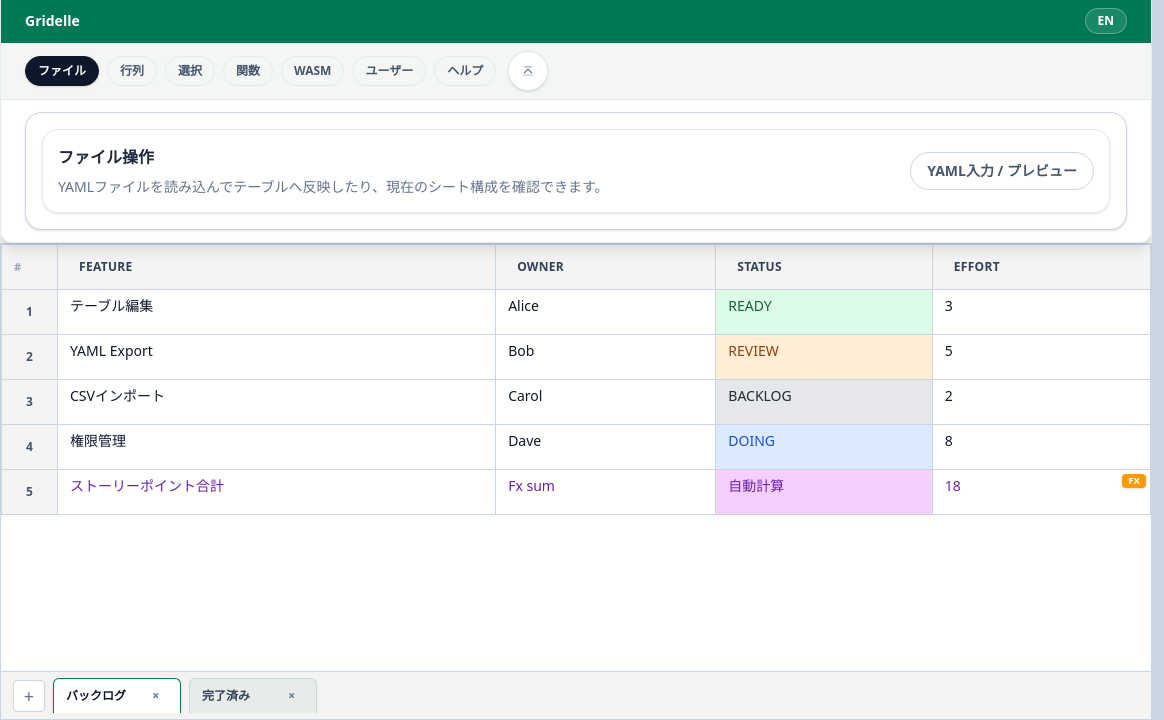
Test: App › 選択行を下へ移動できる
Click the button with test id "menu-tab-structure": (132, 71) x1=107 y1=56 x2=157 y2=86
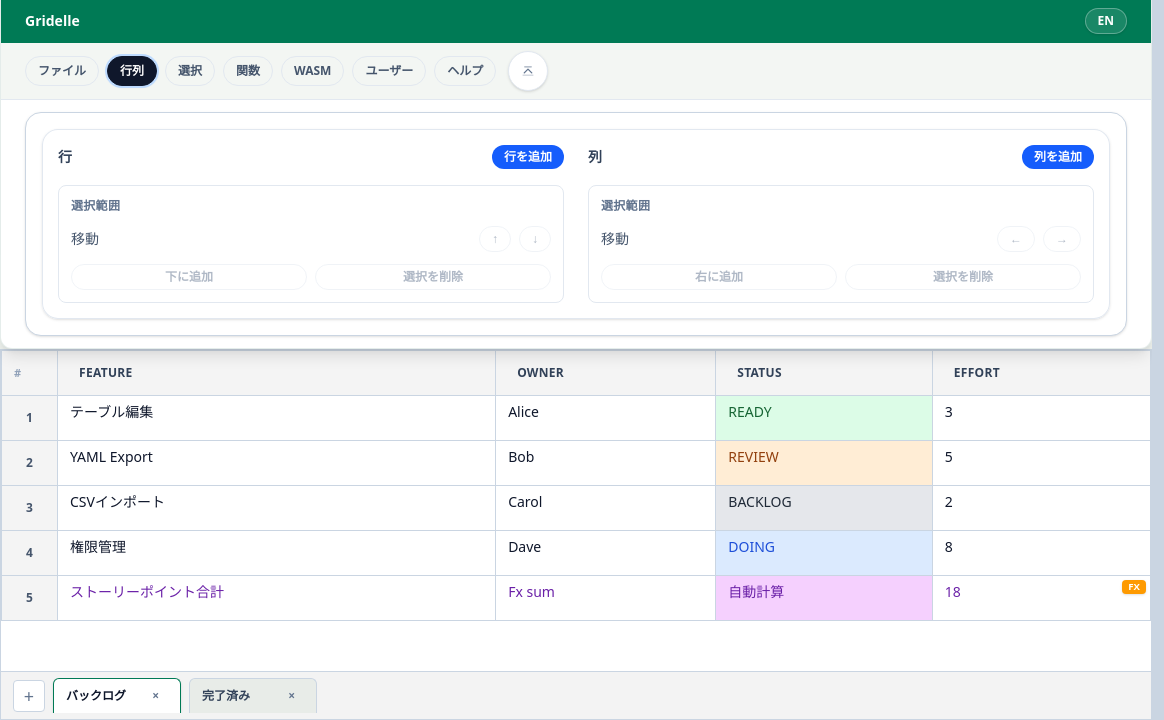
Click the button named "行1を選択": (30, 418) x1=14 y1=402 x2=45 y2=434
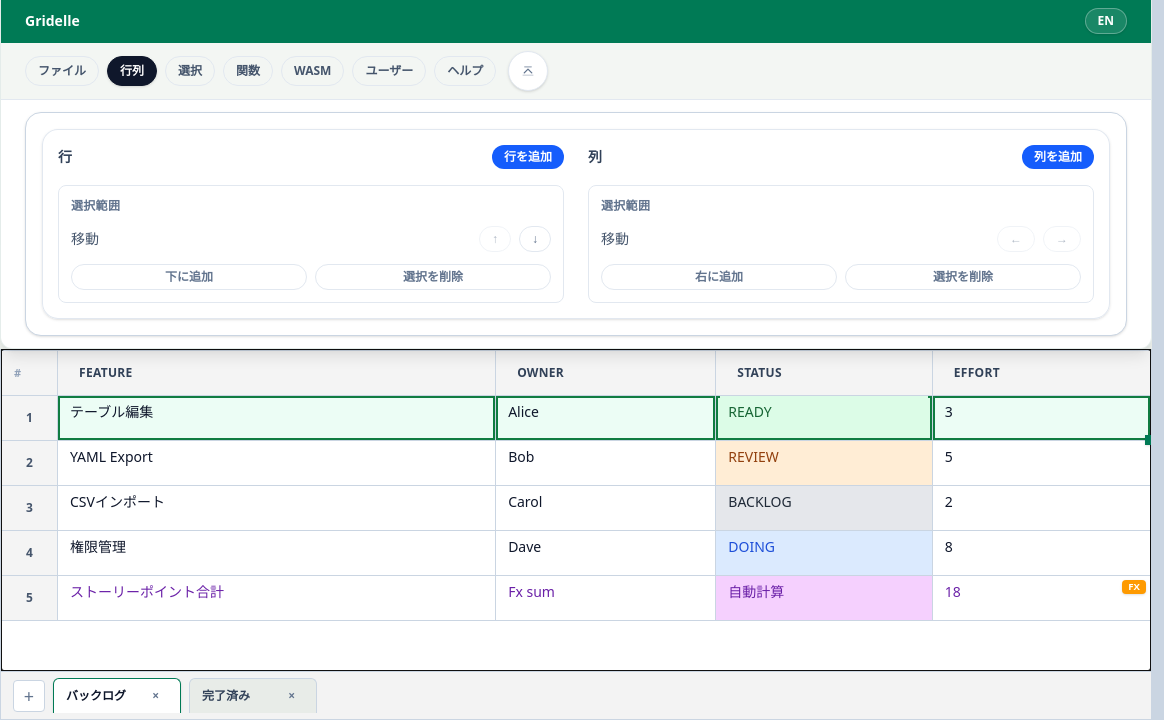
Click the button with test id "move-selected-rows-down": (535, 239) x1=519 y1=226 x2=551 y2=252
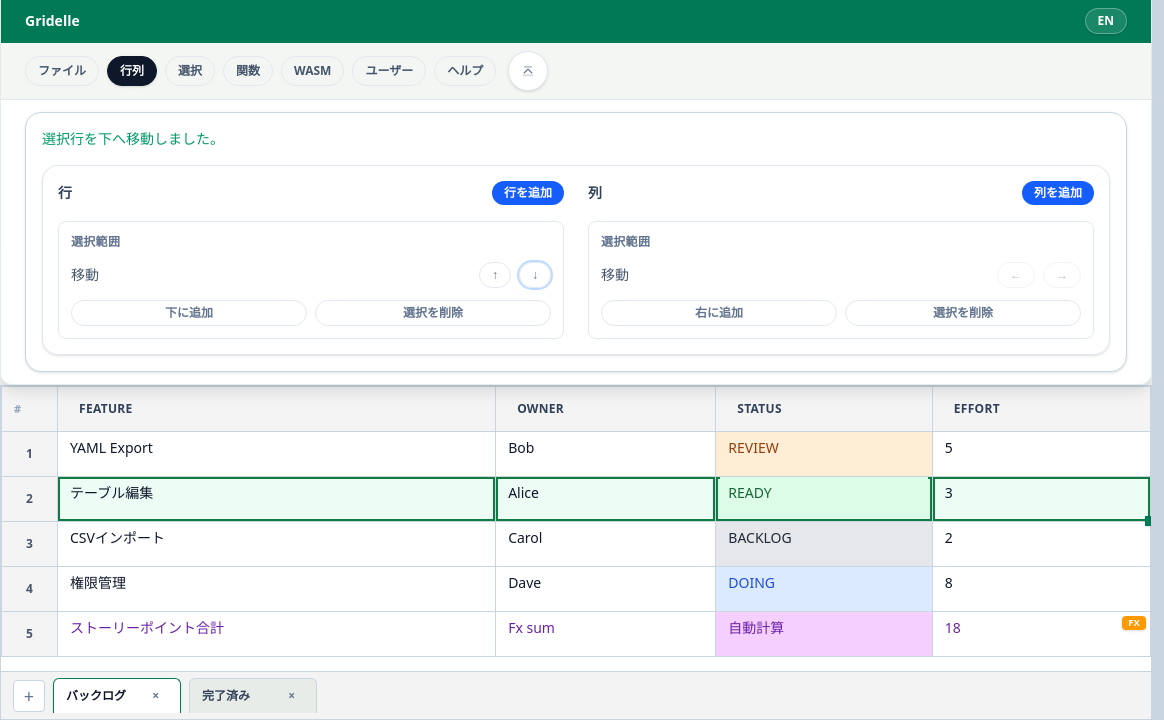
Now the text with test id "cell-display-0-feature" reads "YAML Export", box x1=70 y1=438 x2=153 y2=457
Now the text with test id "cell-display-1-feature" reads "テーブル編集", box x1=70 y1=483 x2=153 y2=502
